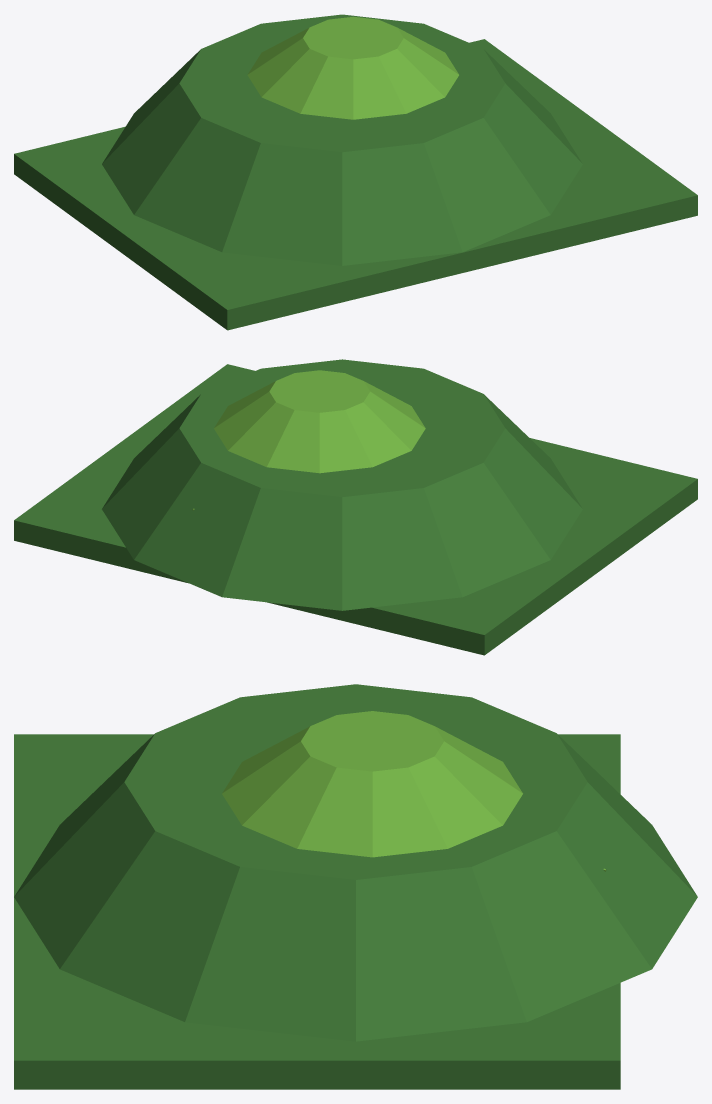
The model's file is hill.glb.
The picture shows the model from 3 angles, top to bottom: view 1: azimuth 30°, elevation 25°; view 2: azimuth 150°, elevation 25°; view 3: azimuth 270°, elevation 25°; orthographic projection. The views are drawn at different scales.
Parts seen in each view (by area): view 1: HillLower, TerrainBase, HillUpper; view 2: HillLower, TerrainBase, HillUpper; view 3: HillLower, TerrainBase, HillUpper.
Part boxes in pixels (<box>): HillLower: <box>102,14,582,265</box>; TerrainBase: <box>14,39,697,330</box>; HillUpper: <box>247,16,458,119</box>; HillLower: <box>102,359,582,610</box>; TerrainBase: <box>14,364,697,655</box>; HillUpper: <box>214,370,425,473</box>; HillLower: <box>14,684,697,1041</box>; TerrainBase: <box>14,734,620,1089</box>; HillUpper: <box>222,711,522,857</box>.
Size of the model in its own units: 14 by 3.94 by 12.4.
